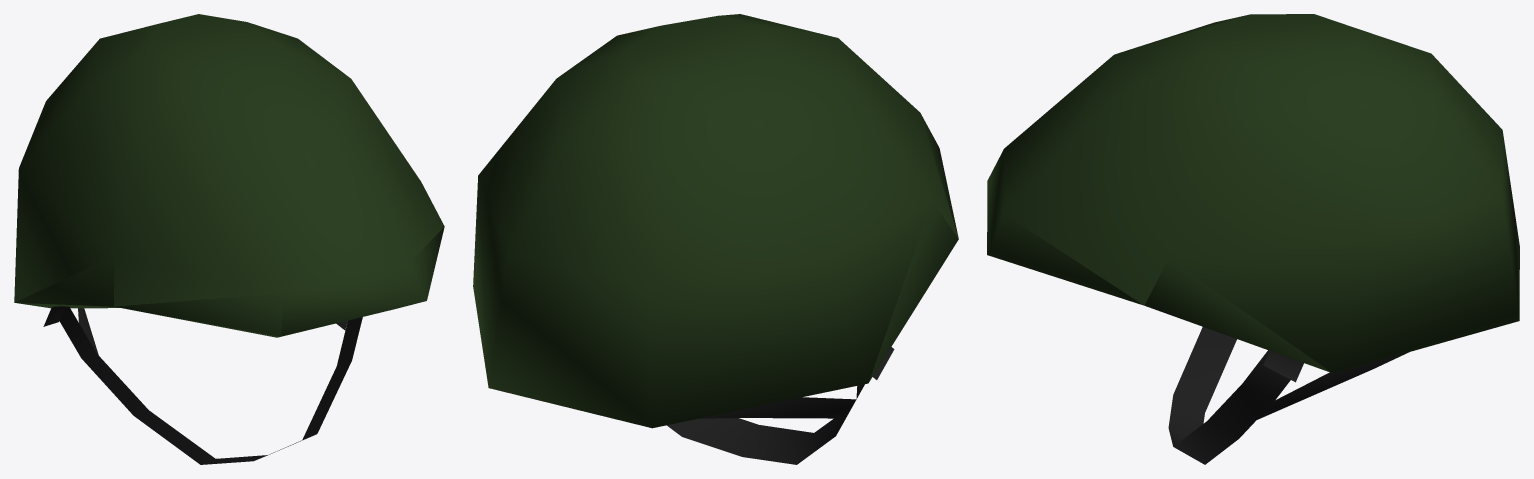
The model's file is casque_combat.obj.
3 renders of one model, left to right at view 1: azimuth 30°, elevation 25°; view 2: azimuth 150°, elevation 25°; view 3: azimuth 270°, elevation 25°, orthographic. The views are drawn at different scales.
Visible parts, largest first — view 1: hat, strap; view 2: hat, strap; view 3: hat, strap.
Boxes of the visible parts, x1,y1,x2,y2 form: hat: [14, 14, 444, 337]; strap: [43, 306, 362, 464]; hat: [473, 14, 958, 428]; strap: [667, 347, 894, 464]; hat: [987, 14, 1519, 373]; strap: [1168, 327, 1409, 464].
Bounding box in the file's own units: 13.97 × 14.78 × 17.53.
